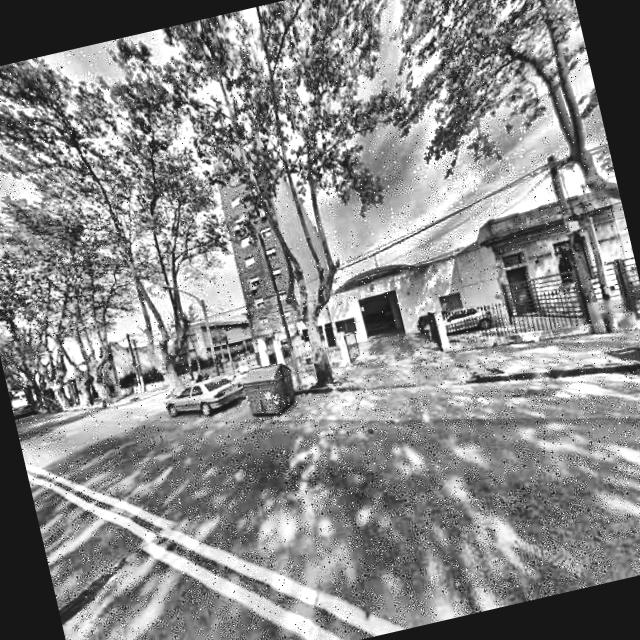Dustbin: (235, 354, 307, 424)
